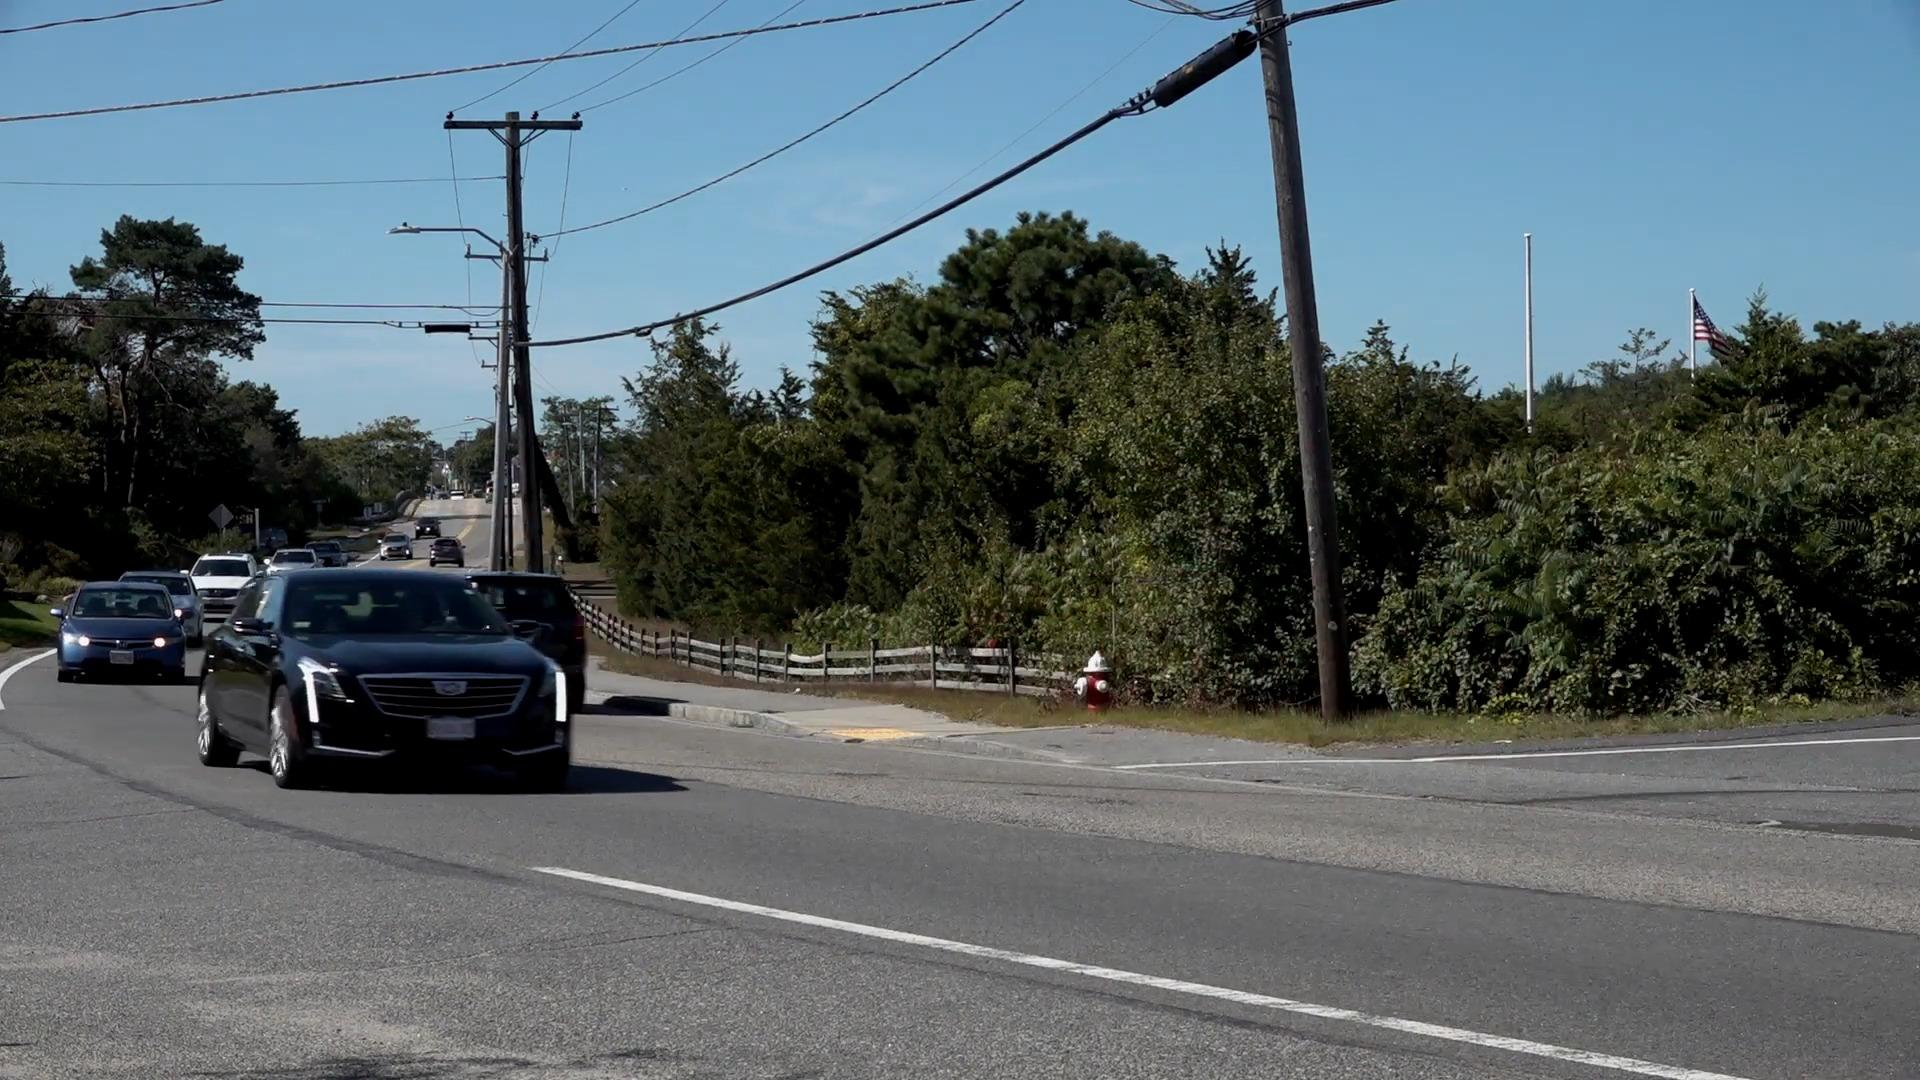sedans: (195, 574, 574, 783), (59, 584, 185, 683)
